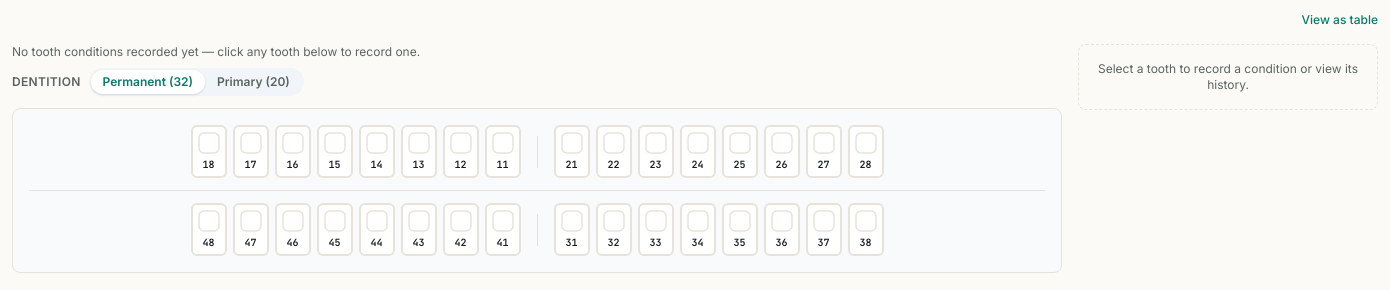
Test: OdontogramSection › hides the record form in the panel when read-only, but still allows viewing history
Click the button named "Tooth 16, No condition recorded" at (292, 152), box [274, 125, 310, 178]
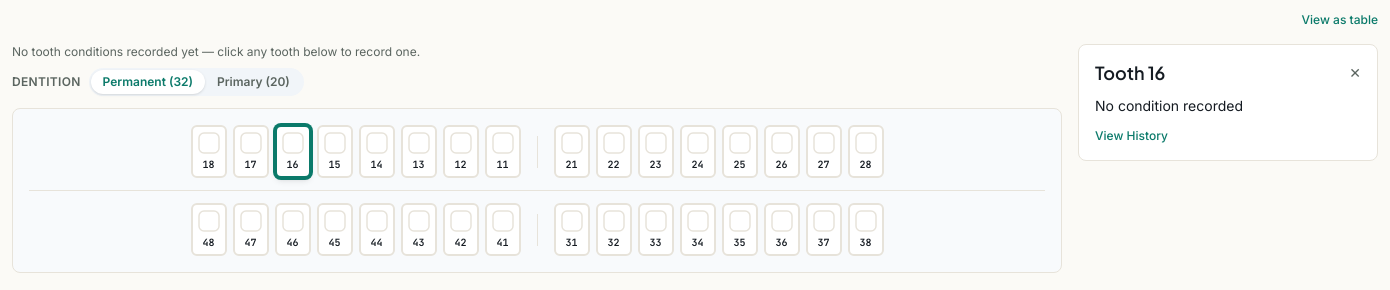
Check: the heading "Tooth 16" is shown, box [1095, 61, 1165, 84]
Check: the button "View History" is shown, box [1095, 128, 1168, 144]
